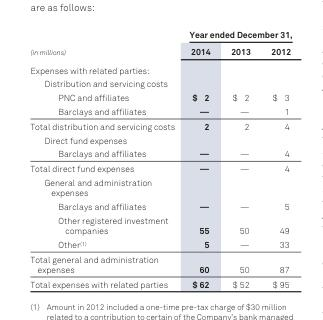table: (29, 28, 291, 289)
table column: (29, 28, 181, 289), (219, 28, 260, 289), (181, 28, 219, 289), (260, 28, 291, 289)
table column header: (29, 28, 291, 60)
table projected row header: (29, 175, 291, 199), (29, 60, 291, 76), (29, 76, 291, 90), (29, 132, 291, 146)
table row: (29, 251, 291, 276), (29, 175, 291, 199), (29, 213, 291, 237), (29, 42, 291, 60), (29, 60, 291, 76), (29, 160, 291, 175), (29, 28, 291, 42), (29, 76, 291, 90), (29, 90, 291, 104), (29, 104, 291, 118), (29, 118, 291, 132), (29, 132, 291, 146), (29, 146, 291, 160), (29, 199, 291, 213), (29, 237, 291, 251), (29, 276, 291, 289)
table spanning cell: (29, 28, 181, 60), (181, 28, 291, 42)
